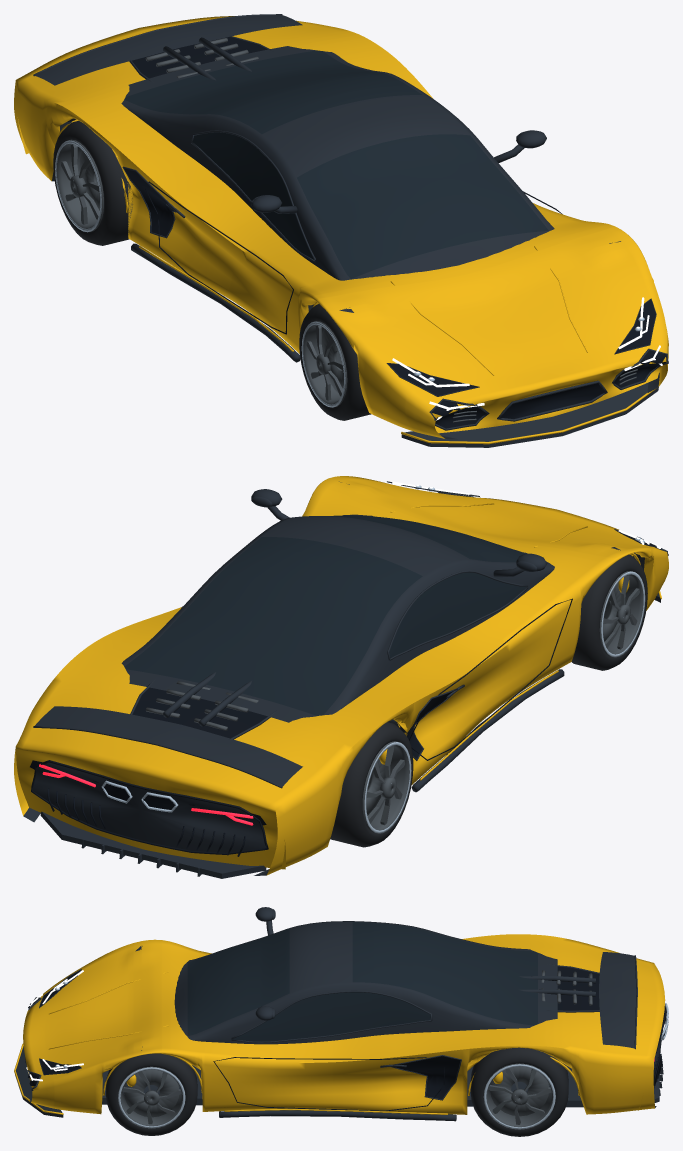
The model's file is Lamborghini_LOD0.glb.
The picture shows the model from 3 angles, top to bottom: view 1: azimuth 30°, elevation 25°; view 2: azimuth 150°, elevation 25°; view 3: azimuth 270°, elevation 25°; orthographic projection. The views are drawn at different scales.
Visible parts, largest first — view 1: Lamborghini_Body, Wheel_Rear_L, Wheel_Front_L; view 2: Lamborghini_Body, Wheel_Rear_L, Wheel_Front_L; view 3: Lamborghini_Body, Wheel_Rear_R, Wheel_Front_R.
Boxes of the visible parts, x1,y1,x2,y2 form: Lamborghini_Body: (14, 14, 668, 447); Wheel_Rear_L: (53, 120, 129, 245); Wheel_Front_L: (299, 304, 371, 420); Lamborghini_Body: (14, 476, 668, 878); Wheel_Rear_L: (330, 722, 413, 847); Wheel_Front_L: (571, 554, 647, 670); Lamborghini_Body: (14, 907, 668, 1121); Wheel_Rear_R: (470, 1047, 568, 1136); Wheel_Front_R: (106, 1053, 197, 1135).
Bounding box in the file's own units: 2.13 × 1.16 × 4.95.
